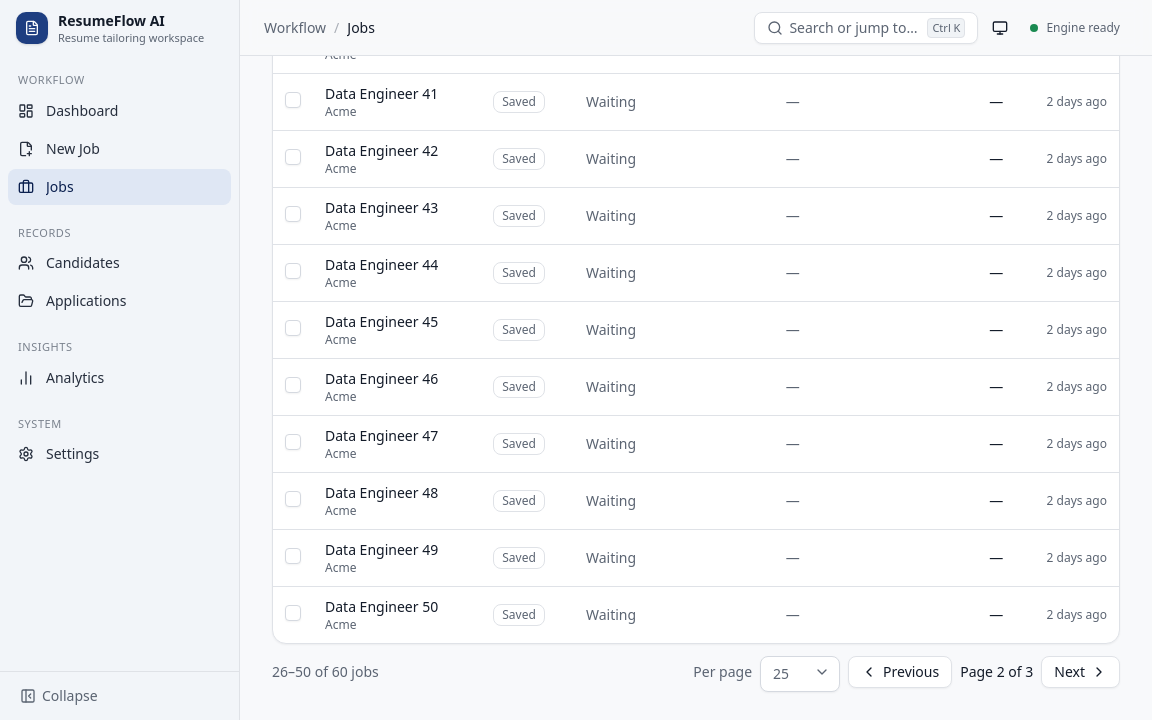
Test case: job list pages › changes the page size and starts again from page 1
(page scrolled)
Expected: the text "26–50 of 60 jobs" is shown, [272, 662, 379, 682]
Select "50" in the dropdown named "Rows per page" at {"x": 800, "y": 674}, box [760, 656, 840, 692]
(page scrolled)
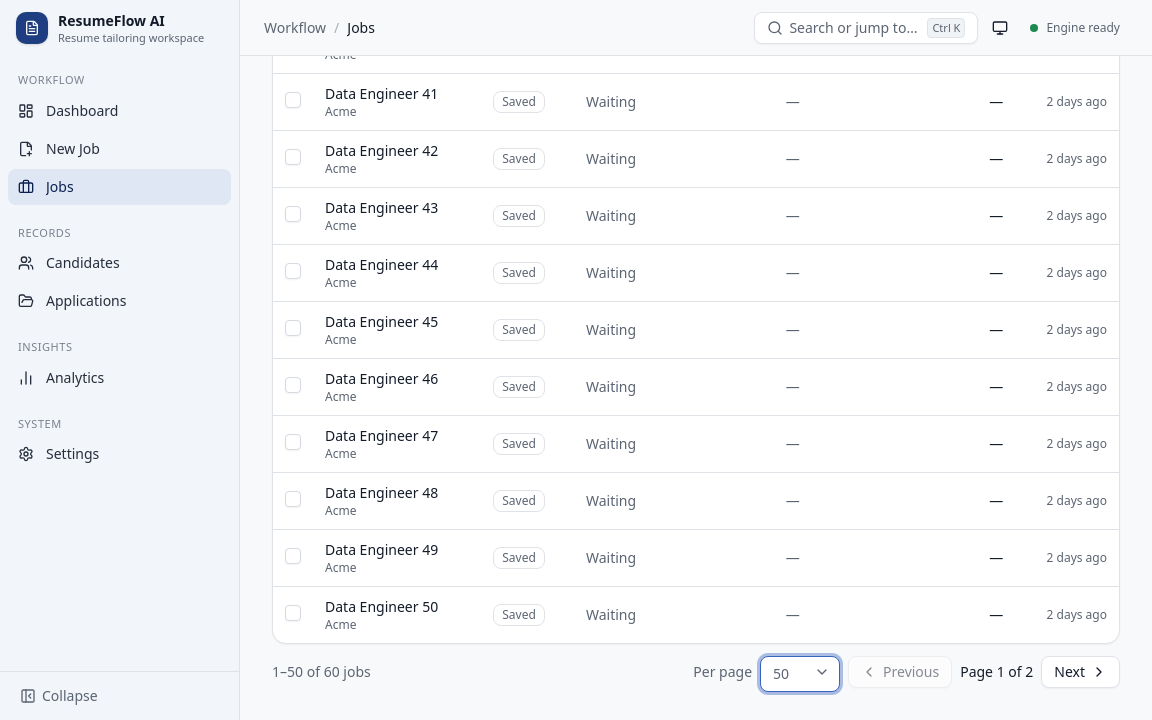
Expected: the link "Data Engineer 50" is shown, [325, 596, 438, 616]
Expected: the text "1–50 of 60 jobs" is shown, [272, 662, 371, 682]
